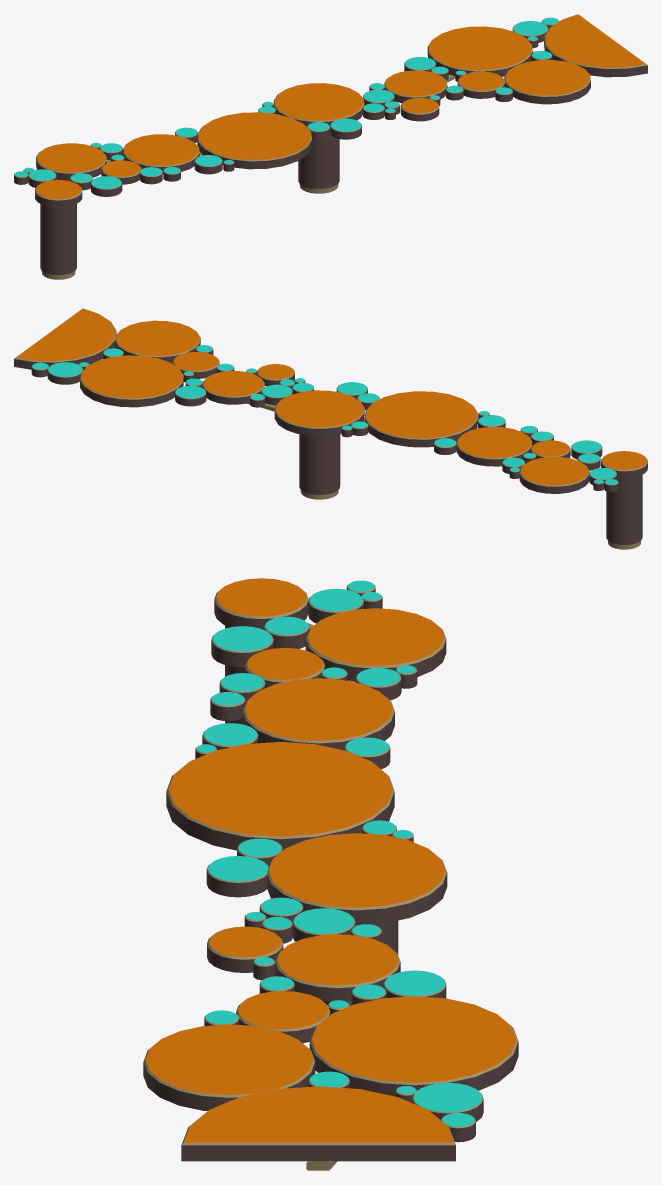
The model's file is Table_A_01.fbx.
3 views of the same model, one above another, from view 1: azimuth 30°, elevation 25°; view 2: azimuth 150°, elevation 25°; view 3: azimuth 270°, elevation 25° (orthographic). The views are drawn at different scales.
Parts seen in each view (by area): view 1: Table_A_01; view 2: Table_A_01; view 3: Table_A_01.
Part boxes in pixels (left/top/right/bottom): Table_A_01: left=14, top=14, right=647, bottom=279; Table_A_01: left=14, top=308, right=647, bottom=549; Table_A_01: left=143, top=578, right=518, bottom=1170.
Size of the model in its own units: 705 by 96.3 by 197.
